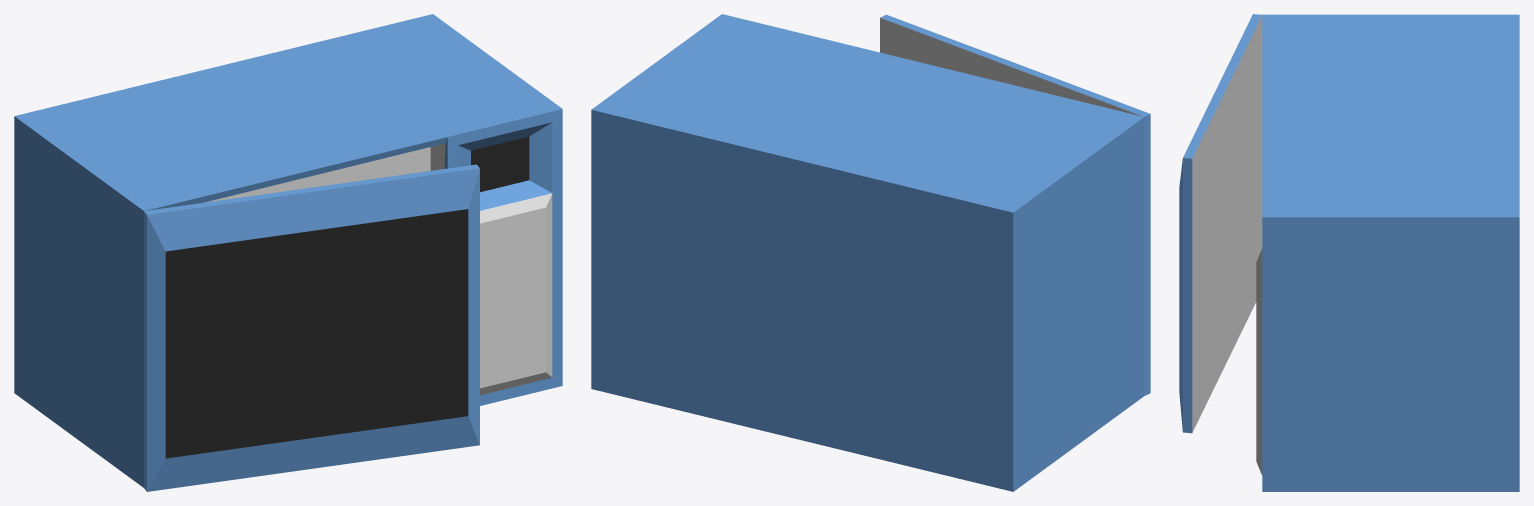
File: Microwave.fbx
The picture shows the model from 3 angles, left to right: view 1: azimuth 30°, elevation 25°; view 2: azimuth 150°, elevation 25°; view 3: azimuth 270°, elevation 25°; orthographic projection.
Parts seen in each view (by area): view 1: Microwave; view 2: Microwave; view 3: Microwave.
Boxes of the visible parts, x1=… form: Microwave: x1=14, y1=14, x2=562, y2=491; Microwave: x1=591, y1=14, x2=1150, y2=491; Microwave: x1=1179, y1=14, x2=1519, y2=491.
Size of the model in its own units: 51.69 by 32.54 by 36.55.
